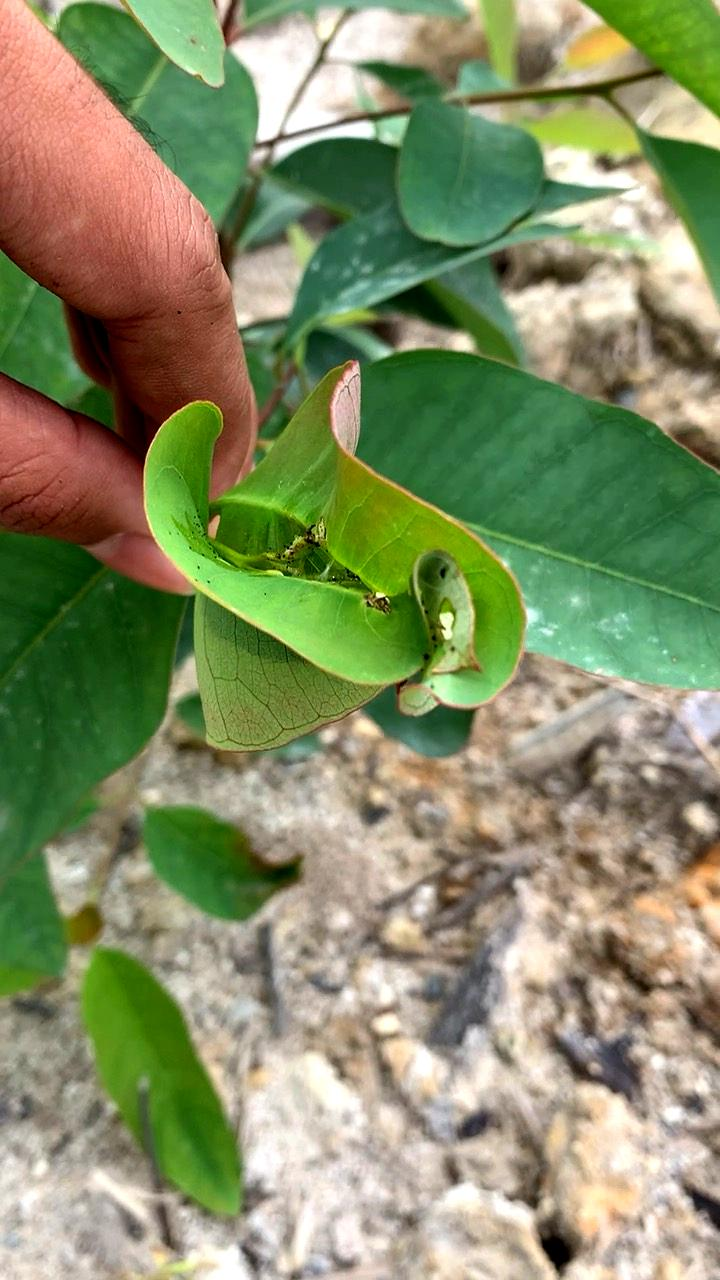Leaf Roller - Leaf: (125, 341, 545, 800)
